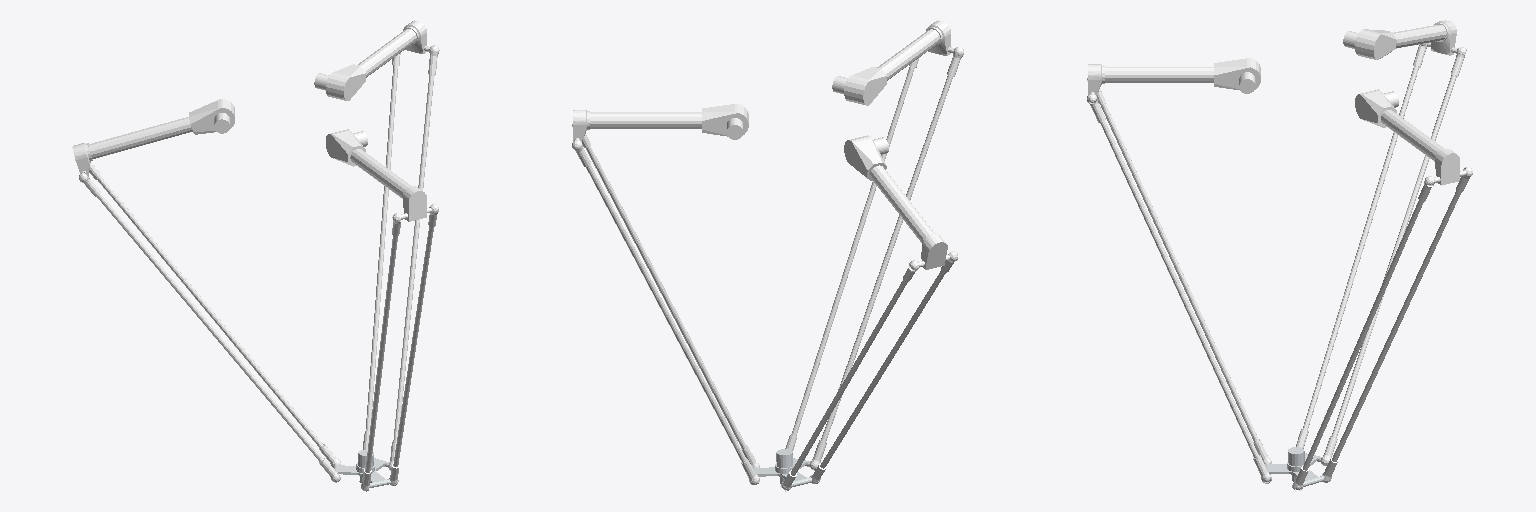
robot.urdf — delta4:
<?xml version="1.0" encoding="utf-8"?>
<!-- This URDF was automatically created by SolidWorks to URDF Exporter! Originally created by [author] ([email redacted]) 
     Commit Version: 1.6.0-1-g15f4949  Build Version: 1.6.7594.29634
     For more information, please see http://wiki.ros.org/sw_urdf_exporter -->
<robot
  name="delta4">
  <link
    name="base_link">
    <inertial>
      <origin
        xyz="0.380382318022096 -0.53352580397799 0.659302446320337"
        rpy="0 0 0" />
      <mass
        value="156.162689770185" />
      <inertia
        ixx="7.59889681143528"
        ixy="9.24660486503278E-05"
        ixz="-0.000259409545019004"
        iyy="7.59824264740178"
        iyz="0.000102275137498657"
        izz="10.3617884952824" />
    </inertial>
    <visual>
      <origin
        xyz="0 0 0"
        rpy="0 0 0" />
      <geometry>
        <mesh
          filename="package://delta4/meshes/base_link.STL" />
      </geometry>
      <material
        name="">
        <color
          rgba="1 1 1 1" />
      </material>
    </visual>
    <collision>
      <origin
        xyz="0 0 0"
        rpy="0 0 0" />
      <geometry>
        <mesh
          filename="package://delta4/meshes/base_link.STL" />
      </geometry>
    </collision>
  </link>
  <link
    name="upper_arm1">
    <inertial>
      <origin
        xyz="0.114792252146977 0.00182152585989687 0.0495423331065888"
        rpy="0 0 0" />
      <mass
        value="0.646884412038515" />
      <inertia
        ixx="0.000166776951356191"
        ixy="-0.000187543246495437"
        ixz="-4.0426217558554E-09"
        iyy="0.00675559133337473"
        iyz="6.15021013891994E-11"
        izz="0.0067770914347623" />
    </inertial>
    <visual>
      <origin
        xyz="0 0 0"
        rpy="0 0 0" />
      <geometry>
        <mesh
          filename="package://delta4/meshes/upper_arm1.STL" />
      </geometry>
      <material
        name="">
        <color
          rgba="1 1 1 1" />
      </material>
    </visual>
    <collision>
      <origin
        xyz="0 0 0"
        rpy="0 0 0" />
      <geometry>
        <mesh
          filename="package://delta4/meshes/upper_arm1.STL" />
      </geometry>
    </collision>
  </link>
  <joint
    name="joint1"
    type="revolute">
    <origin
      xyz="0.332874358144467 -0.683521580995339 0.398756986704061"
      rpy="-1.5707963267949 0 -1.5707963267949" />
    <parent
      link="base_link" />
    <child
      link="upper_arm1" />
    <axis
      xyz="0 0 1" />
    <limit
      lower="0"
      upper="3.1416"
      effort="0"
      velocity="0" />
  </joint>
  <link
    name="lower_arm1">
    <inertial>
      <origin
        xyz="-0.098913125172137 -0.391384004670733 -0.00480012057539481"
        rpy="0 0 0" />
      <mass
        value="0.25492151605556" />
      <inertia
        ixx="0.0159698844877236"
        ixy="-0.00227485545584984"
        ixz="-6.18758519151442E-05"
        iyy="0.000343748472533534"
        iyz="-0.000441355901846076"
        izz="0.0162836493394165" />
    </inertial>
    <visual>
      <origin
        xyz="0 0 0"
        rpy="0 0 0" />
      <geometry>
        <mesh
          filename="package://delta4/meshes/lower_arm1.STL" />
      </geometry>
      <material
        name="">
        <color
          rgba="1 1 1 1" />
      </material>
    </visual>
    <collision>
      <origin
        xyz="0 0 0"
        rpy="0 0 0" />
      <geometry>
        <mesh
          filename="package://delta4/meshes/lower_arm1.STL" />
      </geometry>
    </collision>
  </link>
  <joint
    name="joint_lower1"
    type="revolute">
    <origin
      xyz="0.27257 0.024629 0.0052966"
      rpy="-0.032509 1.1708 -2.6733" />
    <parent
      link="upper_arm1" />
    <child
      link="lower_arm1" />
    <axis
      xyz="0.55852 0 0.82949" />
    <limit
      lower="0"
      upper="0"
      effort="0"
      velocity="0" />
  </joint>
  <link
    name="upper_arm2">
    <inertial>
      <origin
        xyz="0.114792221305799 -0.00182152765219984 0.184356660884915"
        rpy="0 0 0" />
      <mass
        value="0.646884127953808" />
      <inertia
        ixx="0.000166777031838413"
        ixy="0.000187543435284815"
        ixz="4.36611669824634E-09"
        iyy="0.00675559025398929"
        iyz="7.9122624373055E-11"
        izz="0.00677709036650219" />
    </inertial>
    <visual>
      <origin
        xyz="0 0 0"
        rpy="0 0 0" />
      <geometry>
        <mesh
          filename="package://delta4/meshes/upper_arm2.STL" />
      </geometry>
      <material
        name="">
        <color
          rgba="1 1 1 1" />
      </material>
    </visual>
    <collision>
      <origin
        xyz="0 0 0"
        rpy="0 0 0" />
      <geometry>
        <mesh
          filename="package://delta4/meshes/upper_arm2.STL" />
      </geometry>
    </collision>
  </link>
  <joint
    name="joint2"
    type="revolute">
    <origin
      xyz="0.417078668164106 -0.297095310806117 0.398756986704061"
      rpy="1.5707963267949 0 0.523598775598305" />
    <parent
      link="base_link" />
    <child
      link="upper_arm2" />
    <axis
      xyz="0 0 1" />
    <limit
      lower="-1.8717"
      upper="1.2699"
      effort="0"
      velocity="0" />
  </joint>
  <link
    name="lower_arm2">
    <inertial>
      <origin
        xyz="-0.148646965929759 -0.390064925843331 0.107247103054607"
        rpy="0 0 0" />
      <mass
        value="0.254921516687177" />
      <inertia
        ixx="0.0160968178024367"
        ixy="-0.00177809079295449"
        ixz="-0.000221338273392396"
        iyy="0.000451179014465578"
        iyz="-0.0019682386214318"
        izz="0.0160492855945187" />
    </inertial>
    <visual>
      <origin
        xyz="0 0 0"
        rpy="0 0 0" />
      <geometry>
        <mesh
          filename="package://delta4/meshes/lower_arm2.STL" />
      </geometry>
      <material
        name="">
        <color
          rgba="1 1 1 1" />
      </material>
    </visual>
    <collision>
      <origin
        xyz="0 0 0"
        rpy="0 0 0" />
      <geometry>
        <mesh
          filename="package://delta4/meshes/lower_arm2.STL" />
      </geometry>
    </collision>
  </link>
  <joint
    name="joint_lower2"
    type="revolute">
    <origin
      xyz="0.16127 0.034687 0.31426"
      rpy="3.1286 0.22775 2.6404" />
    <parent
      link="upper_arm2" />
    <child
      link="lower_arm2" />
    <axis
      xyz="0.69905 0 -0.71508" />
    <limit
      lower="0"
      upper="0"
      effort="0"
      velocity="0" />
  </joint>
  <link
    name="upper_arm3">
    <inertial>
      <origin
        xyz="0.109230135193745 -0.0353460727333918 -0.0251673203699467"
        rpy="0 0 0" />
      <mass
        value="0.646884044729839" />
      <inertia
        ixx="0.000836411654860553"
        ixy="0.00199971478863697"
        ixz="3.13346079855795E-09"
        iyy="0.00608595348110964"
        iyz="-9.23002274844755E-10"
        izz="0.00677708858032651" />
    </inertial>
    <visual>
      <origin
        xyz="0 0 0"
        rpy="0 0 0" />
      <geometry>
        <mesh
          filename="package://delta4/meshes/upper_arm3.STL" />
      </geometry>
      <material
        name="">
        <color
          rgba="1 1 1 1" />
      </material>
    </visual>
    <collision>
      <origin
        xyz="0 0 0"
        rpy="0 0 0" />
      <geometry>
        <mesh
          filename="package://delta4/meshes/upper_arm3.STL" />
      </geometry>
    </collision>
  </link>
  <joint
    name="joint3"
    type="revolute">
    <origin
      xyz="0.2620330475768 -0.438494743532825 0.398756986704061"
      rpy="1.5707963267949 0 2.6179938779915" />
    <parent
      link="base_link" />
    <child
      link="upper_arm3" />
    <axis
      xyz="0 0 1" />
    <limit
      lower="-2.312"
      upper="0.82957"
      effort="0"
      velocity="0" />
  </joint>
  <link
    name="lower_arm3">
    <inertial>
      <origin
        xyz="-0.00997569485788841 -0.363772513608709 -0.0504792416861639"
        rpy="0 0 0" />
      <mass
        value="0.254921516971954" />
      <inertia
        ixx="0.0160363031075885"
        ixy="-0.00203145838119185"
        ixz="-0.000164159994613957"
        iyy="0.000371789693262562"
        iyz="-0.00129683014757462"
        izz="0.0161891896620351" />
    </inertial>
    <visual>
      <origin
        xyz="0 0 0"
        rpy="0 0 0" />
      <geometry>
        <mesh
          filename="package://delta4/meshes/lower_arm3.STL" />
      </geometry>
      <material
        name="">
        <color
          rgba="1 1 1 1" />
      </material>
    </visual>
    <collision>
      <origin
        xyz="0 0 0"
        rpy="0 0 0" />
      <geometry>
        <mesh
          filename="package://delta4/meshes/lower_arm3.STL" />
      </geometry>
    </collision>
  </link>
  <joint
    name="joint_lower3"
    type="revolute">
    <origin
      xyz="0.23048 -0.12561 0.015497"
      rpy="0.015923 0.65183 -0.48859" />
    <parent
      link="upper_arm3" />
    <child
      link="lower_arm3" />
    <axis
      xyz="0 1 0" />
    <limit
      lower="0"
      upper="0"
      effort="0"
      velocity="0" />
  </joint>
  <link
    name="target">
    <inertial>
      <origin
        xyz="-0.104557839033449 -0.0130744248454435 -0.0603664962444304"
        rpy="0 0 0" />
      <mass
        value="0.207397114286246" />
      <inertia
        ixx="0.000172813626526846"
        ixy="-5.05146300111733E-06"
        ixz="1.41296031566026E-07"
        iyy="0.00027682777437766"
        iyz="-2.9164642559148E-06"
        izz="0.000172650431702604" />
    </inertial>
    <visual>
      <origin
        xyz="0 0 0"
        rpy="0 0 0" />
      <geometry>
        <mesh
          filename="package://delta4/meshes/target.STL" />
      </geometry>
      <material
        name="">
        <color
          rgba="0.898039215686275 0.917647058823529 0.929411764705882 1" />
      </material>
    </visual>
    <collision>
      <origin
        xyz="0 0 0"
        rpy="0 0 0" />
      <geometry>
        <mesh
          filename="package://delta4/meshes/target.STL" />
      </geometry>
    </collision>
  </link>
  <joint
    name="joint_targer"
    type="continuous">
    <origin
      xyz="0.38037 -0.53352 -0.32514"
      rpy="1.5708 0 -3.1416" />
    <parent
      link="base_link" />
    <child
      link="target" />
    <axis
      xyz="0 0 0" />
  </joint>
</robot>

--- What the picture shows (computed from the rendered views, not written in the file) ---
Views: 3 orthographic renders of the robot side by side, from view 1: azimuth 30°, elevation 25°; view 2: azimuth 150°, elevation 25°; view 3: azimuth 270°, elevation 25°.
Robot: delta4 — 8 links, 7 joints (6 revolute, 1 continuous); root link base_link; default pose: all joints at 0.
Links seen in each view (by area): view 1: lower_arm3, lower_arm2, upper_arm3, lower_arm1, upper_arm1, upper_arm2, target; view 2: lower_arm2, lower_arm1, upper_arm2, upper_arm3, lower_arm3, upper_arm1, target; view 3: lower_arm1, lower_arm3, lower_arm2, upper_arm1, upper_arm2, upper_arm3, target.
Boxes of the visible links, x1=… form: lower_arm3: x1=79, y1=163, x2=340, y2=482; lower_arm2: x1=363, y1=37, x2=439, y2=470; upper_arm3: x1=72, y1=99, x2=234, y2=177; lower_arm1: x1=361, y1=204, x2=438, y2=491; upper_arm1: x1=326, y1=129, x2=431, y2=221; upper_arm2: x1=314, y1=20, x2=429, y2=100; target: x1=334, y1=450, x2=390, y2=487; lower_arm2: x1=572, y1=124, x2=759, y2=484; lower_arm1: x1=785, y1=47, x2=963, y2=470; upper_arm2: x1=573, y1=104, x2=748, y2=141; upper_arm3: x1=844, y1=135, x2=949, y2=269; lower_arm3: x1=780, y1=251, x2=957, y2=491; upper_arm1: x1=832, y1=20, x2=954, y2=105; target: x1=753, y1=449, x2=811, y2=489; lower_arm1: x1=1087, y1=78, x2=1271, y2=483; lower_arm3: x1=1296, y1=43, x2=1466, y2=465; lower_arm2: x1=1292, y1=167, x2=1472, y2=491; upper_arm1: x1=1088, y1=58, x2=1260, y2=102; upper_arm2: x1=1355, y1=89, x2=1465, y2=185; upper_arm3: x1=1343, y1=20, x2=1465, y2=59; target: x1=1263, y1=447, x2=1323, y2=489.
Size in the robot's own frame: 0.79 by 0.7033 by 0.7945 metres.
7 mesh visuals loaded from 8 distinct referenced files (7 binary STL); not drawn: 1 (reference not matched to a file when rendering).